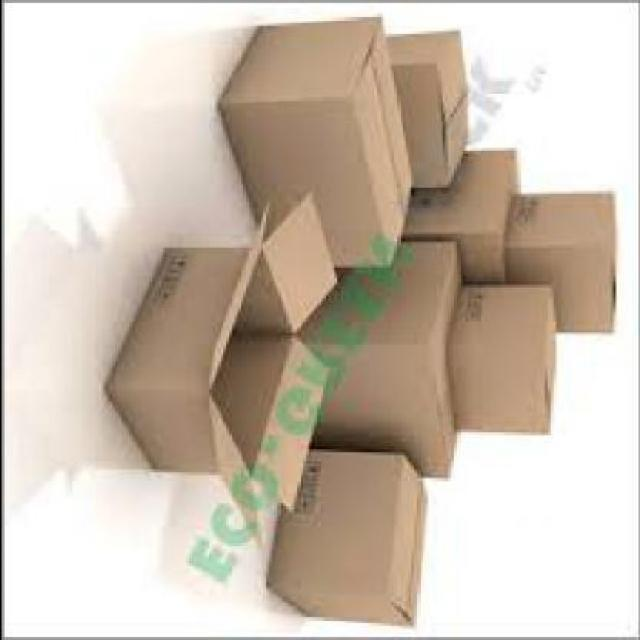box: (103, 197, 348, 548), (217, 20, 414, 272), (305, 242, 459, 482), (262, 452, 426, 631), (448, 285, 562, 442), (399, 151, 526, 285), (506, 194, 620, 335), (388, 34, 471, 197)
